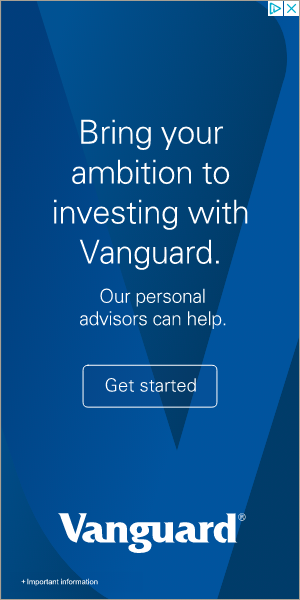fake_button: (70, 338, 236, 423), (254, 2, 300, 32)
